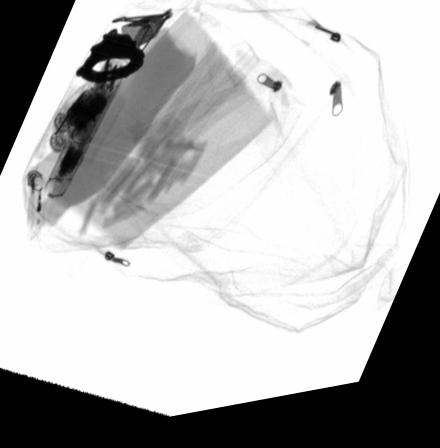Baton: (44, 25, 150, 197)
HandCuffs: (74, 32, 147, 86)
Lighter: (26, 170, 46, 228)
